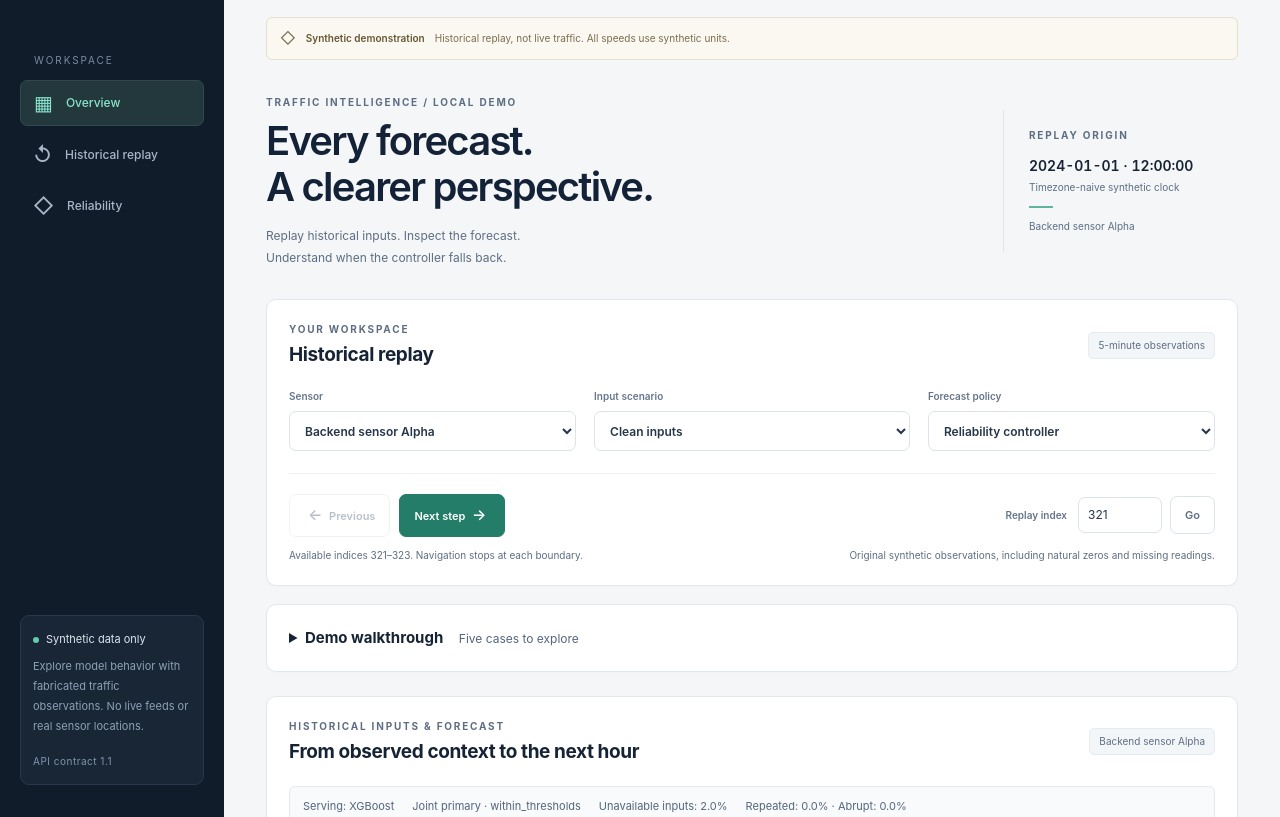
Test case: synthetic dashboard foundation › shows API errors and clears a previous successful replay
The width and height of the screenshot is (1280, 817).
Select "Simulated stuck readings" in the dropdown labelled "Input scenario" at (752, 431), box top-left (594, 411), bottom-right (910, 451)
(page scrolled)
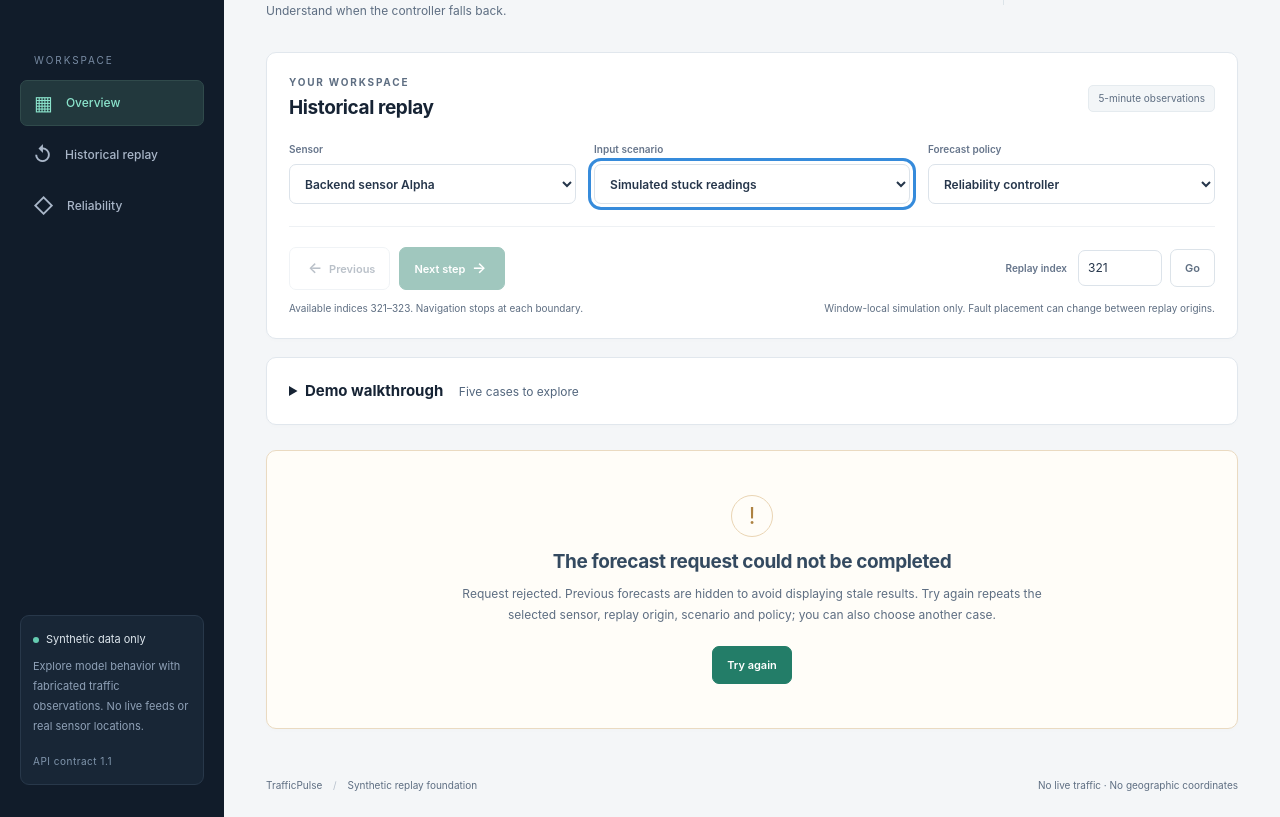
Expected: the heading "The forecast request could not be completed" is shown, top-left (553, 550), bottom-right (951, 573)
